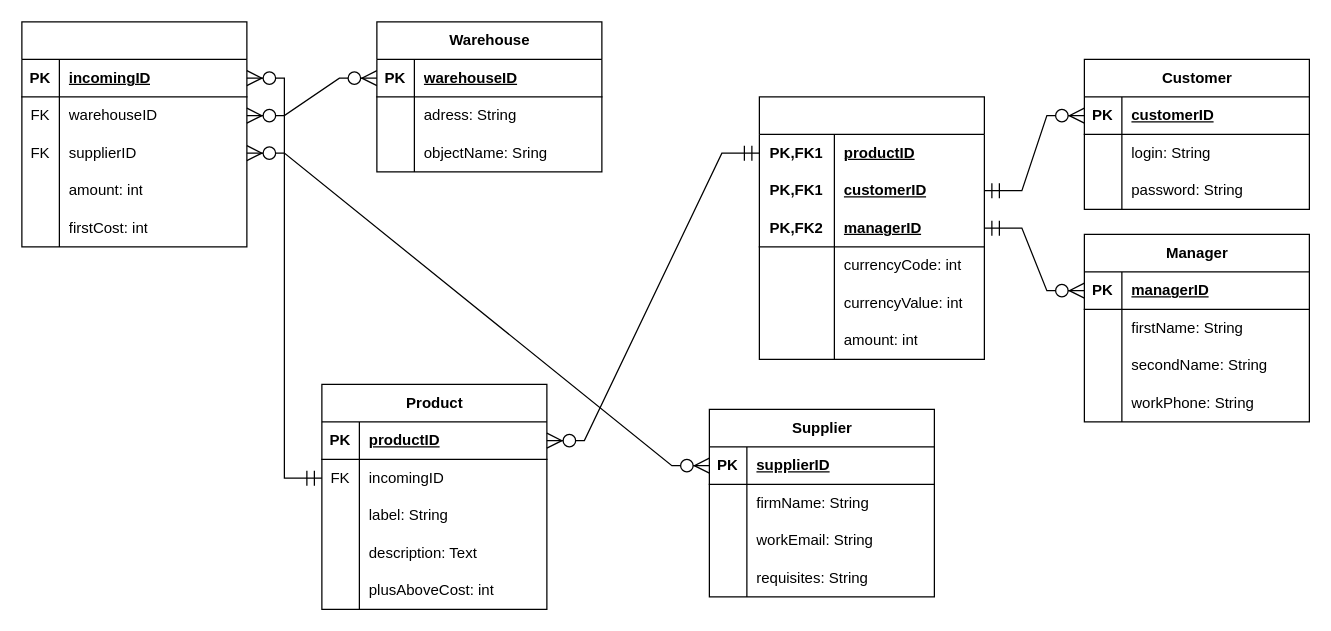
Some shapes in this 1331 by 631 pixel diagram are drawn without their labels. Each missing label, with the box of its shape:
IncomingInvoices: (21, 21, 247, 247)
Sales: (758, 96, 984, 359)
